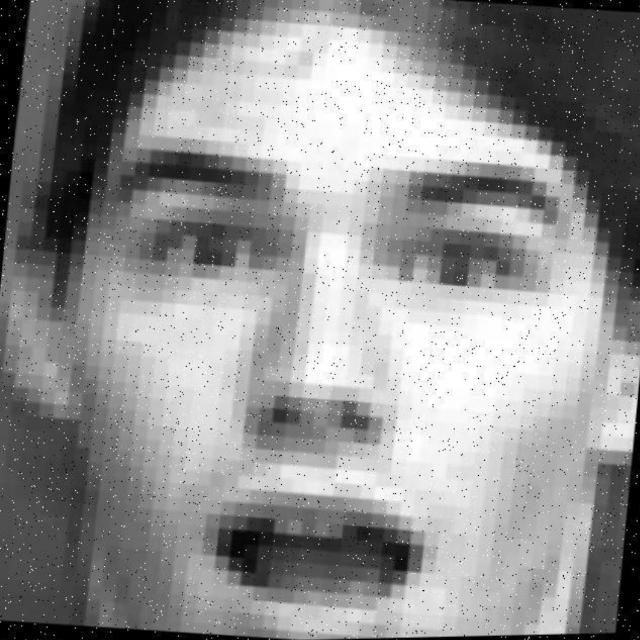Surprised: (36, 99, 640, 640)
